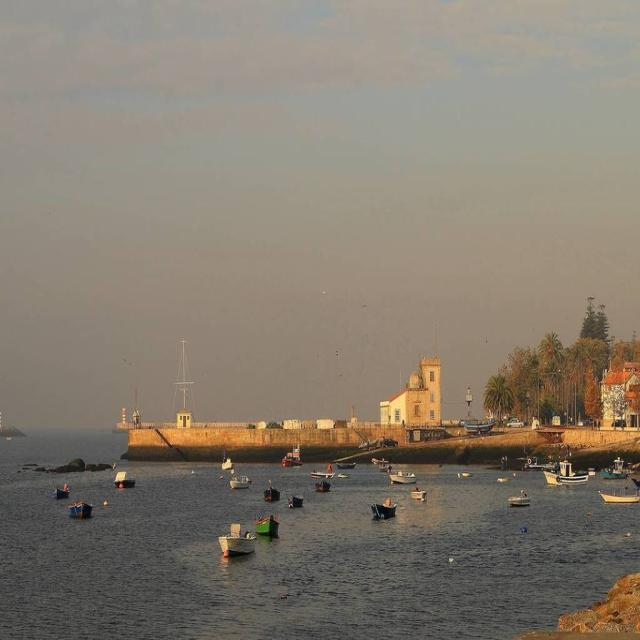Boat: (543, 459, 590, 487), (216, 529, 254, 560), (600, 481, 640, 507), (600, 456, 630, 484), (253, 511, 281, 538), (283, 446, 304, 472), (70, 499, 92, 521), (463, 423, 493, 439), (114, 470, 135, 490), (230, 474, 250, 492), (388, 474, 416, 486), (508, 496, 532, 510), (52, 486, 72, 500), (288, 492, 305, 508), (369, 506, 396, 516), (264, 486, 280, 500), (313, 481, 331, 493), (336, 461, 355, 472), (221, 457, 234, 472), (530, 462, 550, 471), (410, 491, 426, 500), (498, 476, 512, 484), (459, 471, 472, 479)
